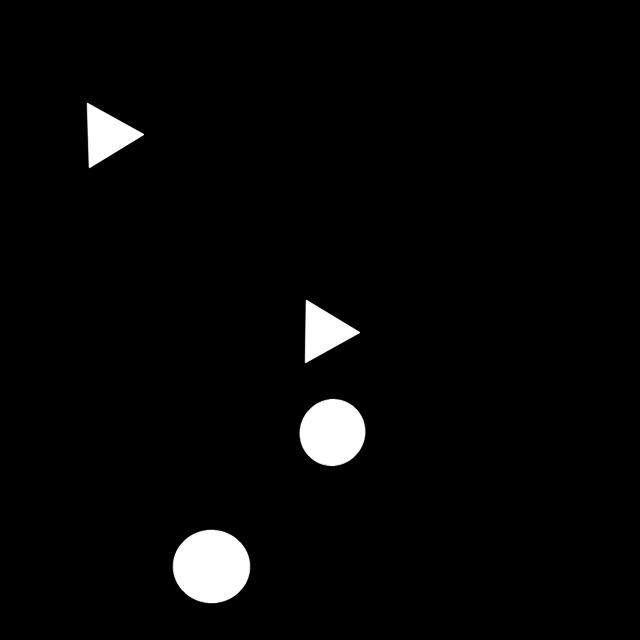Circle: (166, 525, 260, 613), (291, 392, 374, 478)
Triangle: (293, 287, 371, 375), (73, 97, 149, 176)
